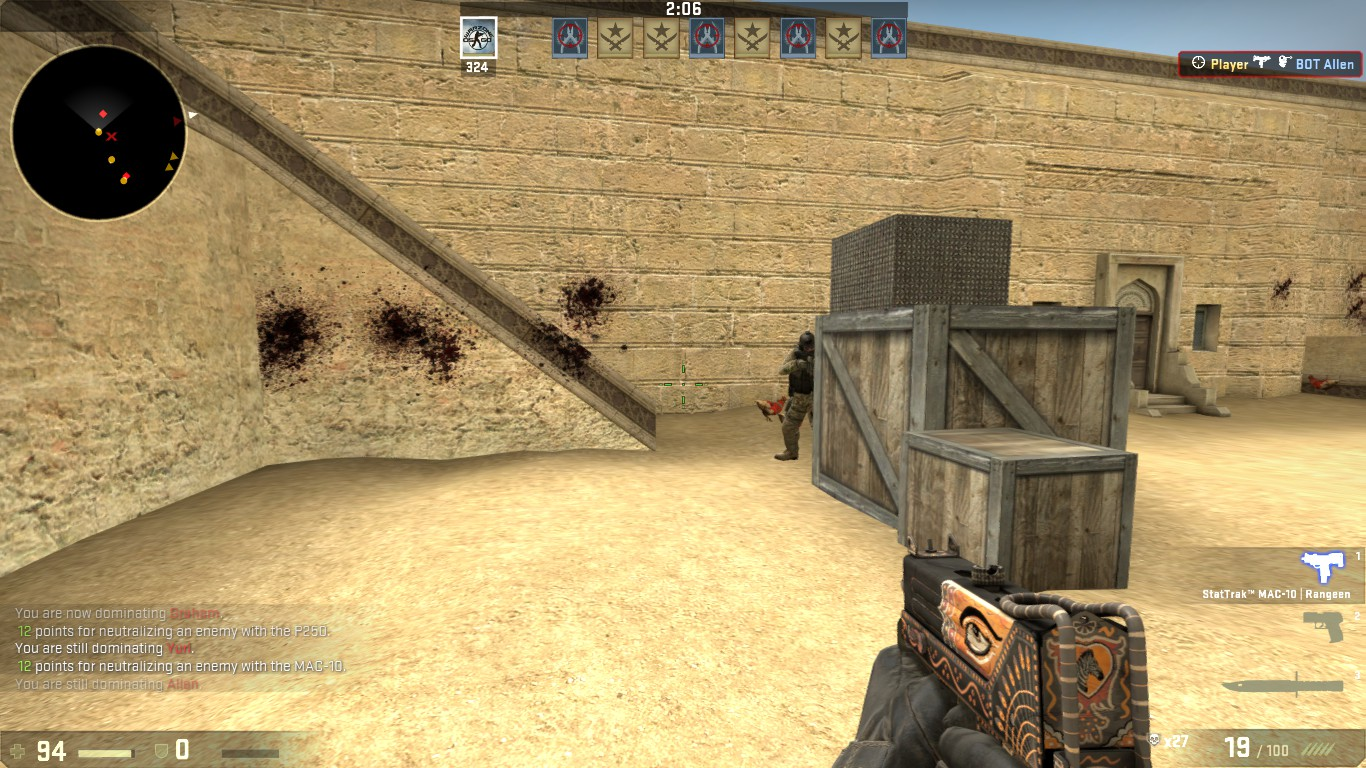c: (781, 329, 824, 461)
ch: (796, 330, 817, 358)
